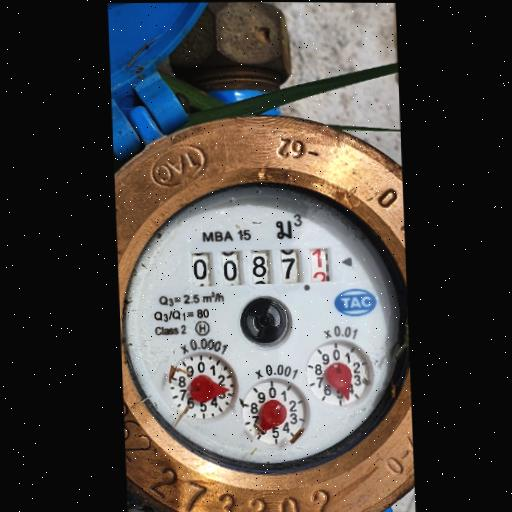0: (221, 250, 241, 286), (191, 252, 211, 287)
1: (308, 248, 329, 283)
7: (279, 250, 301, 283)
8: (249, 250, 271, 284)
border_water_meter_number: (189, 245, 331, 288)
